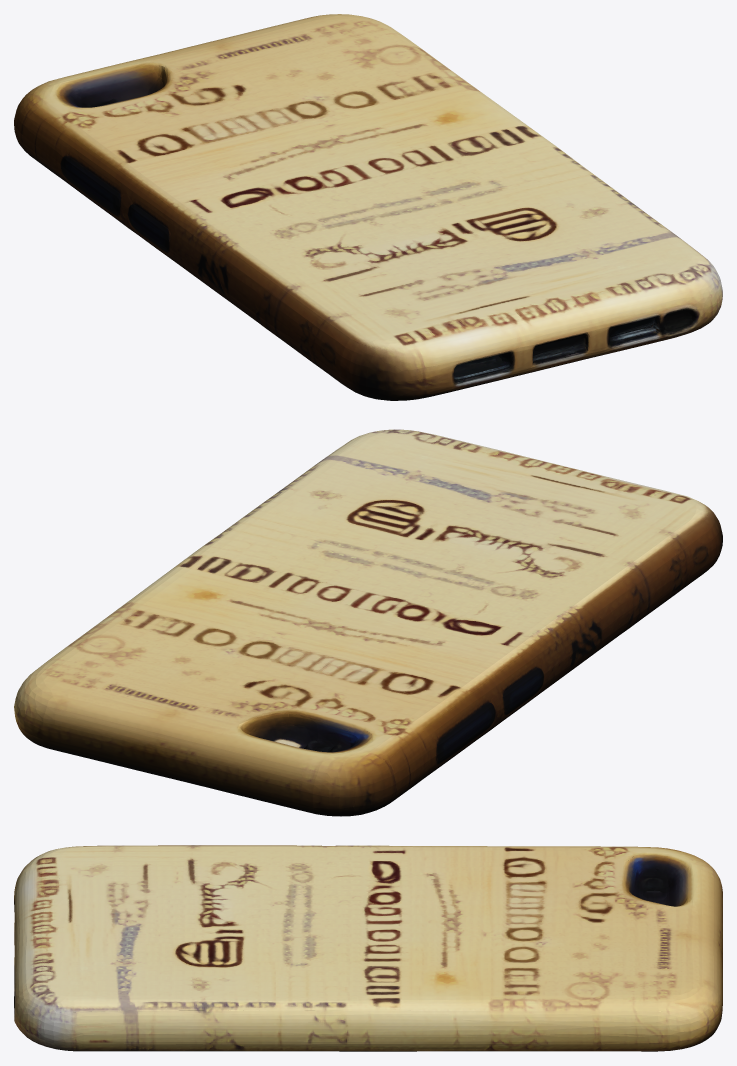
File: cork-phone-case-vintage.jpeg.glb
3 views of the same model, one above another, from view 1: azimuth 30°, elevation 25°; view 2: azimuth 150°, elevation 25°; view 3: azimuth 270°, elevation 25° (orthographic). The views are drawn at different scales.
Visible parts, largest first — view 1: world; view 2: world; view 3: world.
Part boxes in pixels (box(x1,y1,x2,y2)): world: box(14, 14, 722, 400); world: box(14, 429, 722, 816); world: box(14, 845, 722, 1051).
Bounding box in the file's own units: 0.5689 × 0.0809 × 1.
1 material, 1 textured.
